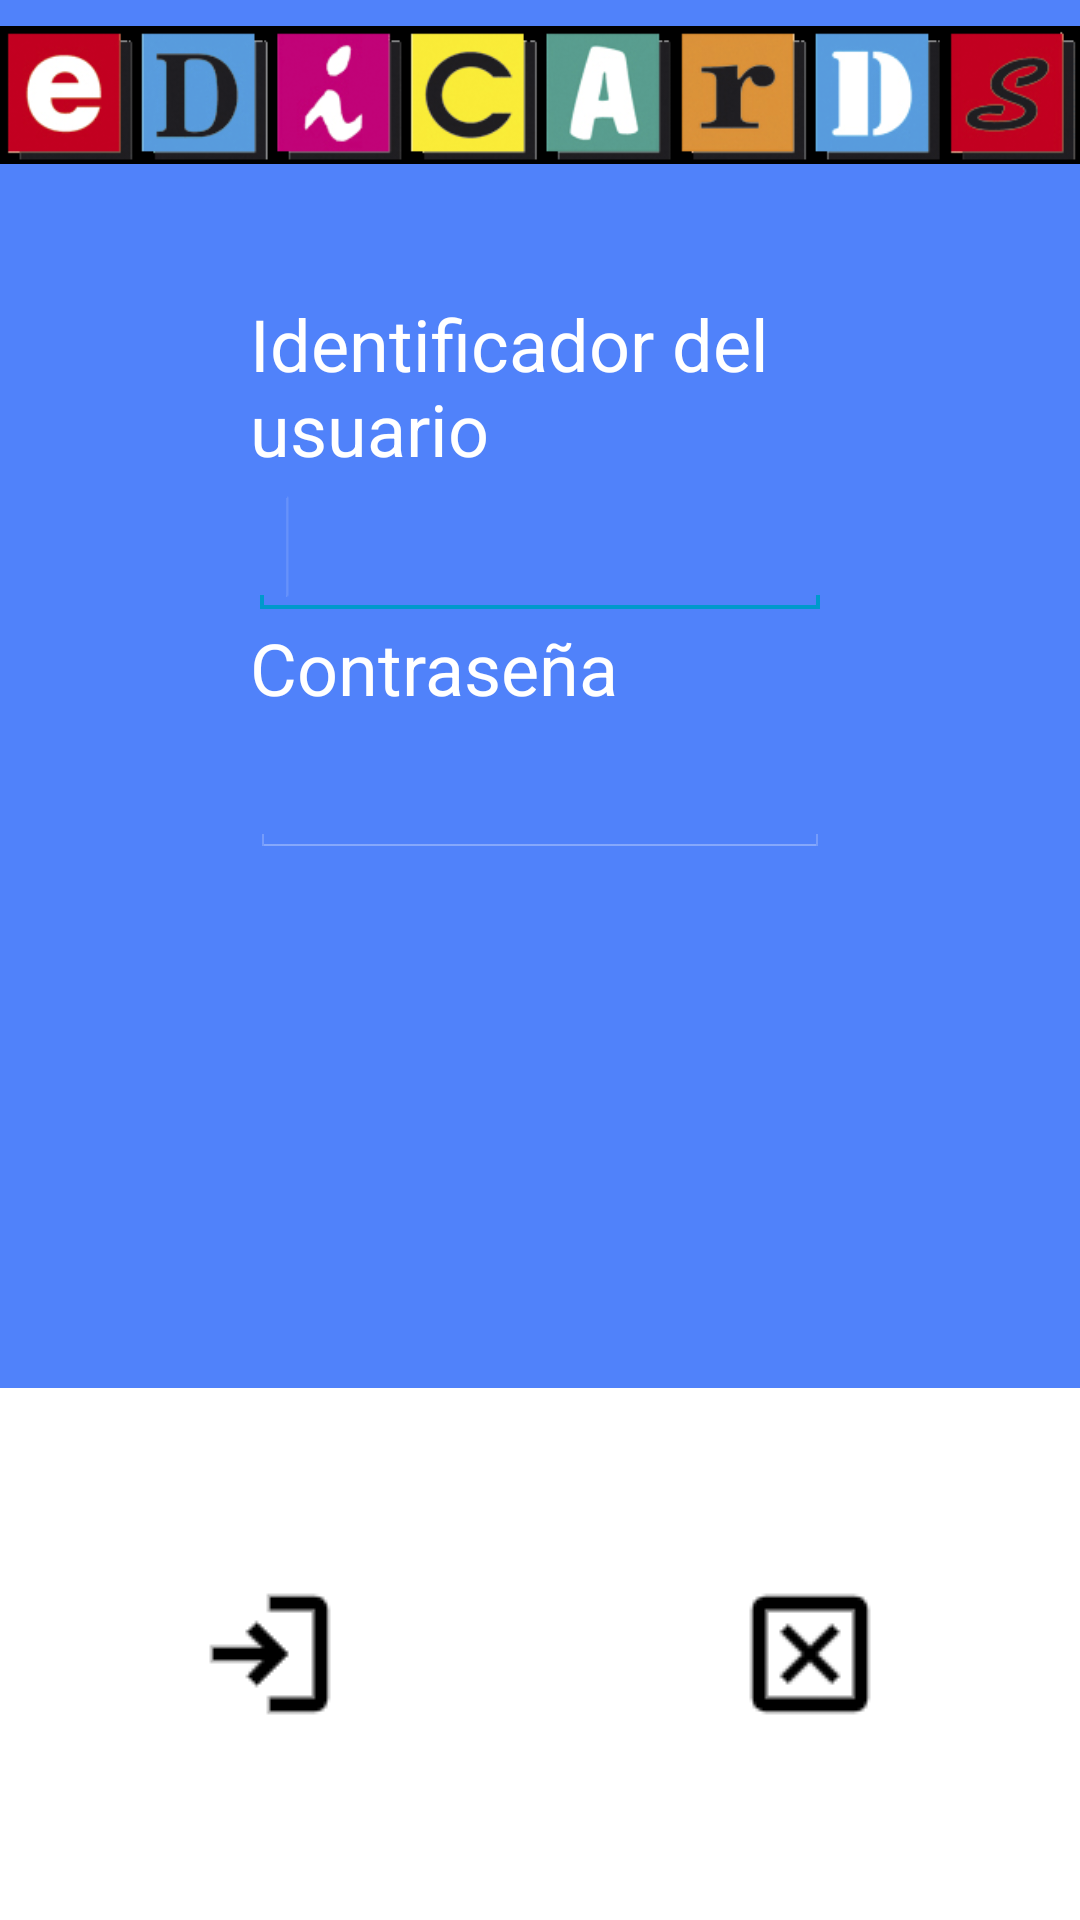

Icon bounding boxes for this 1080w x 1920h phone screenshot, format (x1, y1, x2, y2):
access: (210, 1594, 330, 1714)
close: (750, 1594, 870, 1714)
